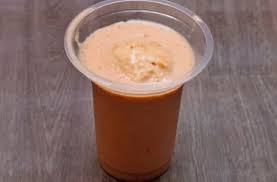jigirthanda: (69, 20, 187, 173)
